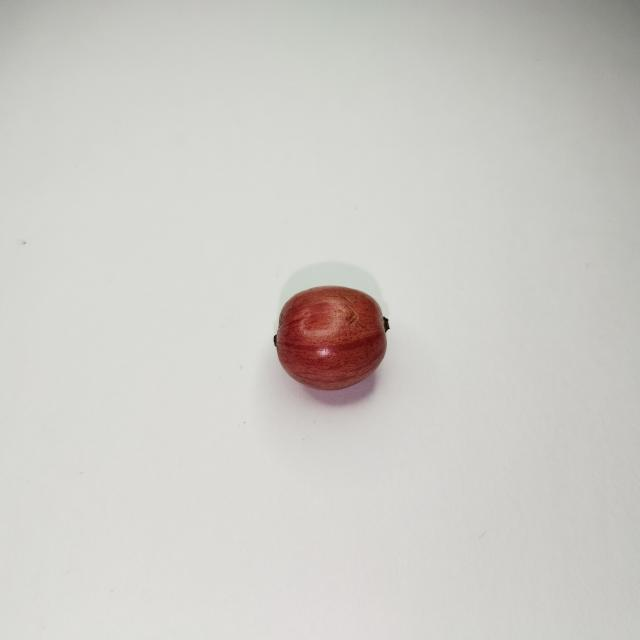Sano: (275, 283, 386, 389)
